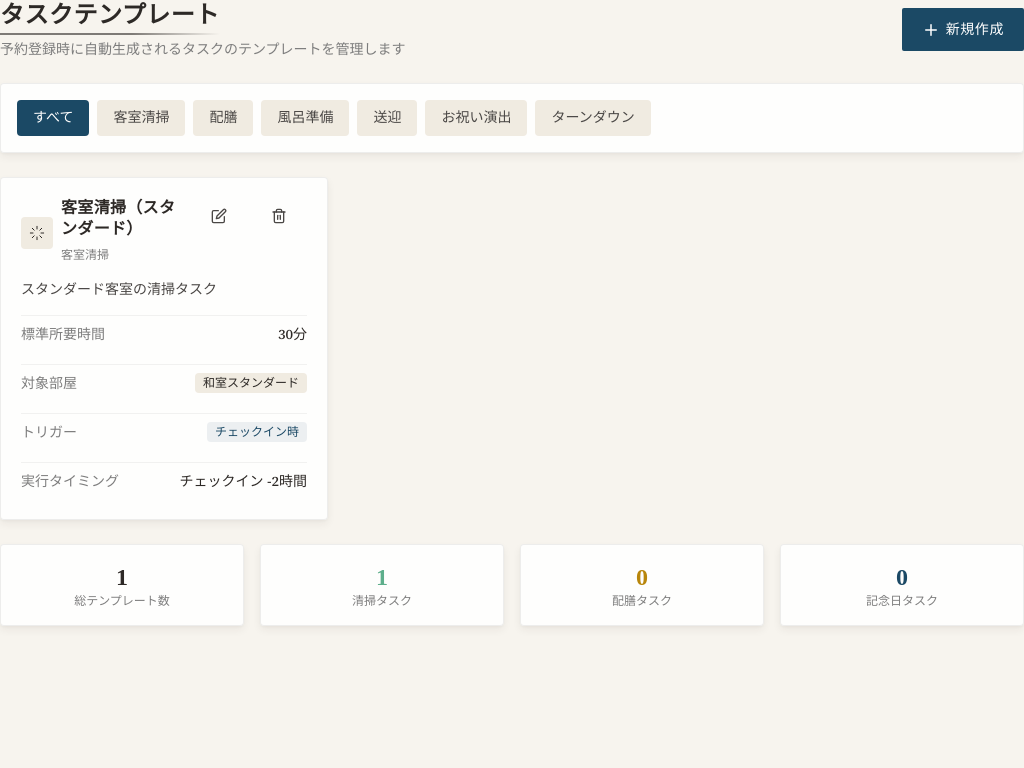
Test: TemplateFormの共通Modal移行 › ESCキーでTemplateFormが閉じる
Click the button "新規作成" at (963, 30), box left=902, top=8, right=1023, bottom=52
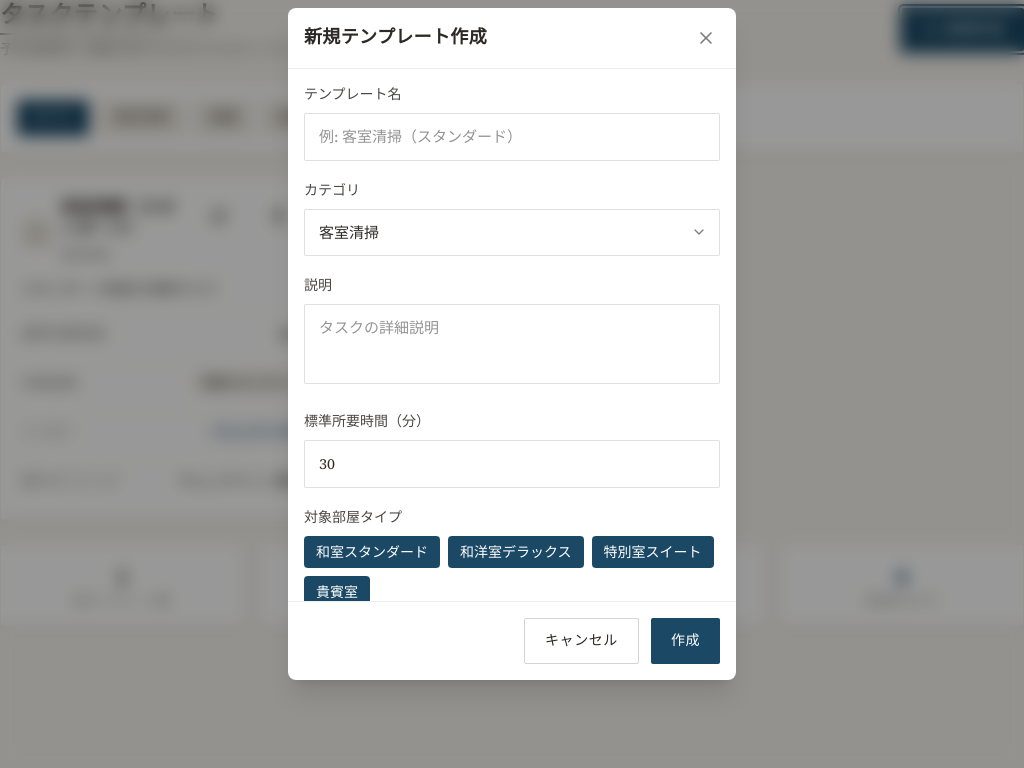
expect the dialog is shown: met, box left=288, top=8, right=736, bottom=680
Press Escape
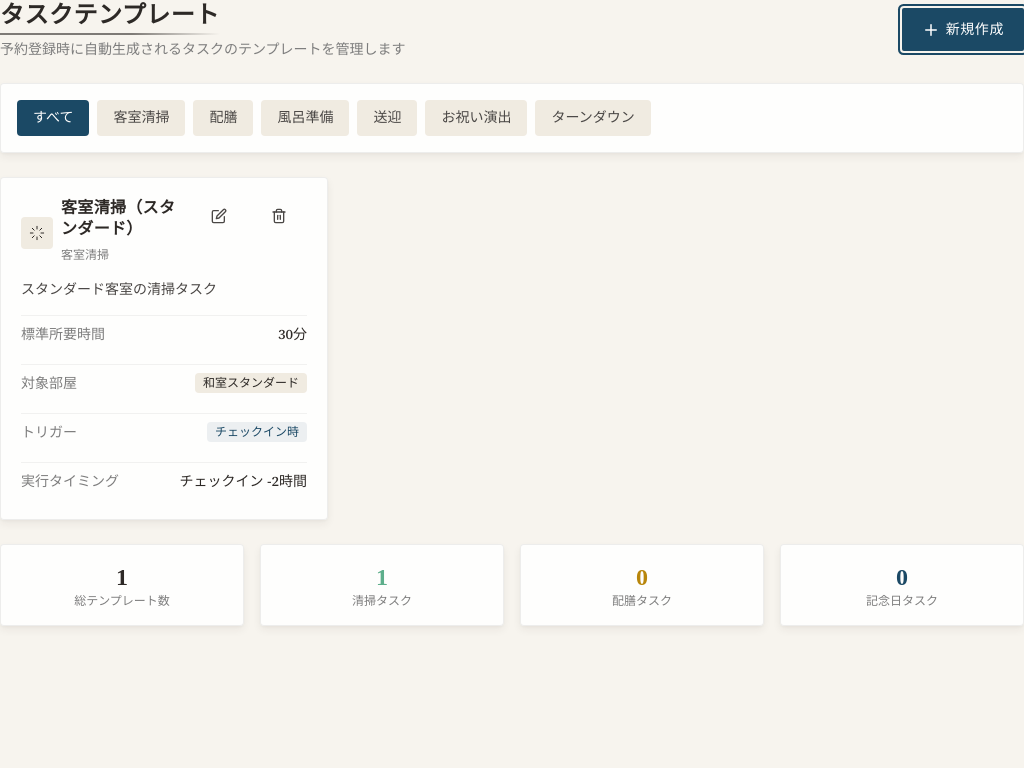
expect the dialog is gone: met
